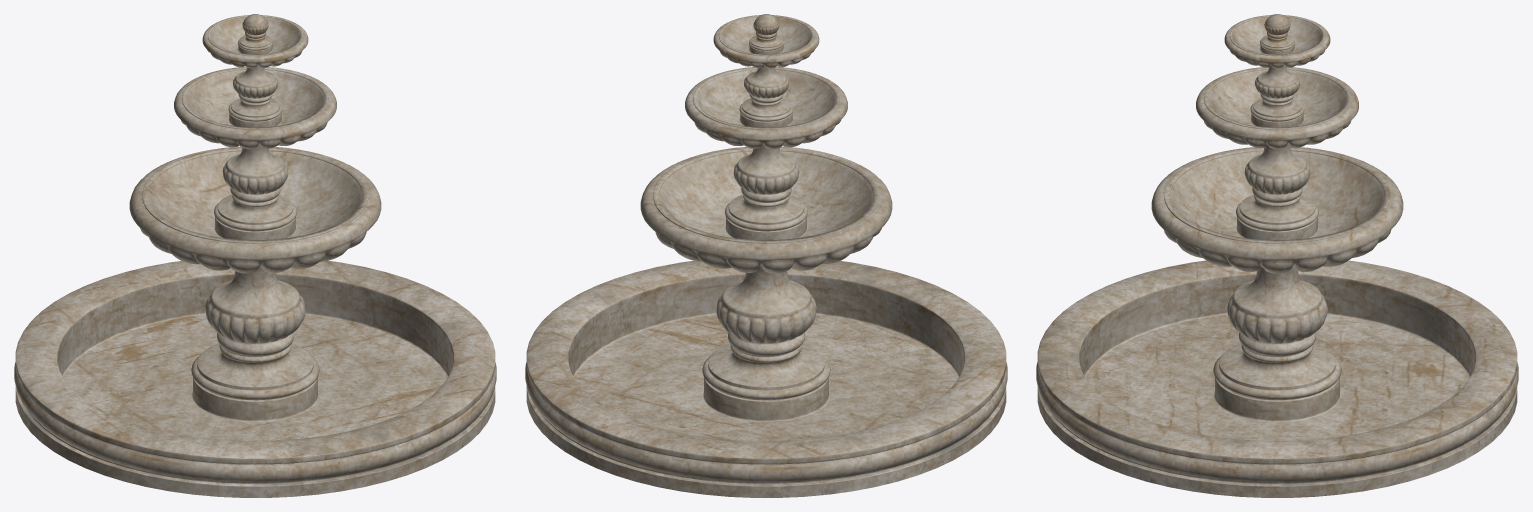
3 views of the same model, side by side, from view 1: azimuth 30°, elevation 25°; view 2: azimuth 150°, elevation 25°; view 3: azimuth 270°, elevation 25° (orthographic).
Visible parts, largest first — view 1: Fountain; view 2: Fountain; view 3: Fountain.
Part boxes in pixels (x1,y1,x2,y2): Fountain: (14,14,496,497); Fountain: (525,14,1007,497); Fountain: (1036,14,1518,497).
Bounding box in the file's own units: 3.01 × 2.63 × 3.01.
1 material, 1 textured.
